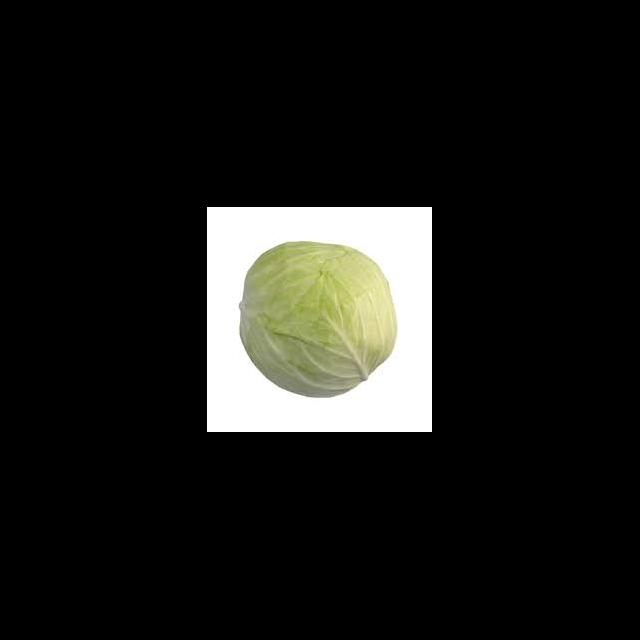cabbage: (237, 232, 399, 403)
